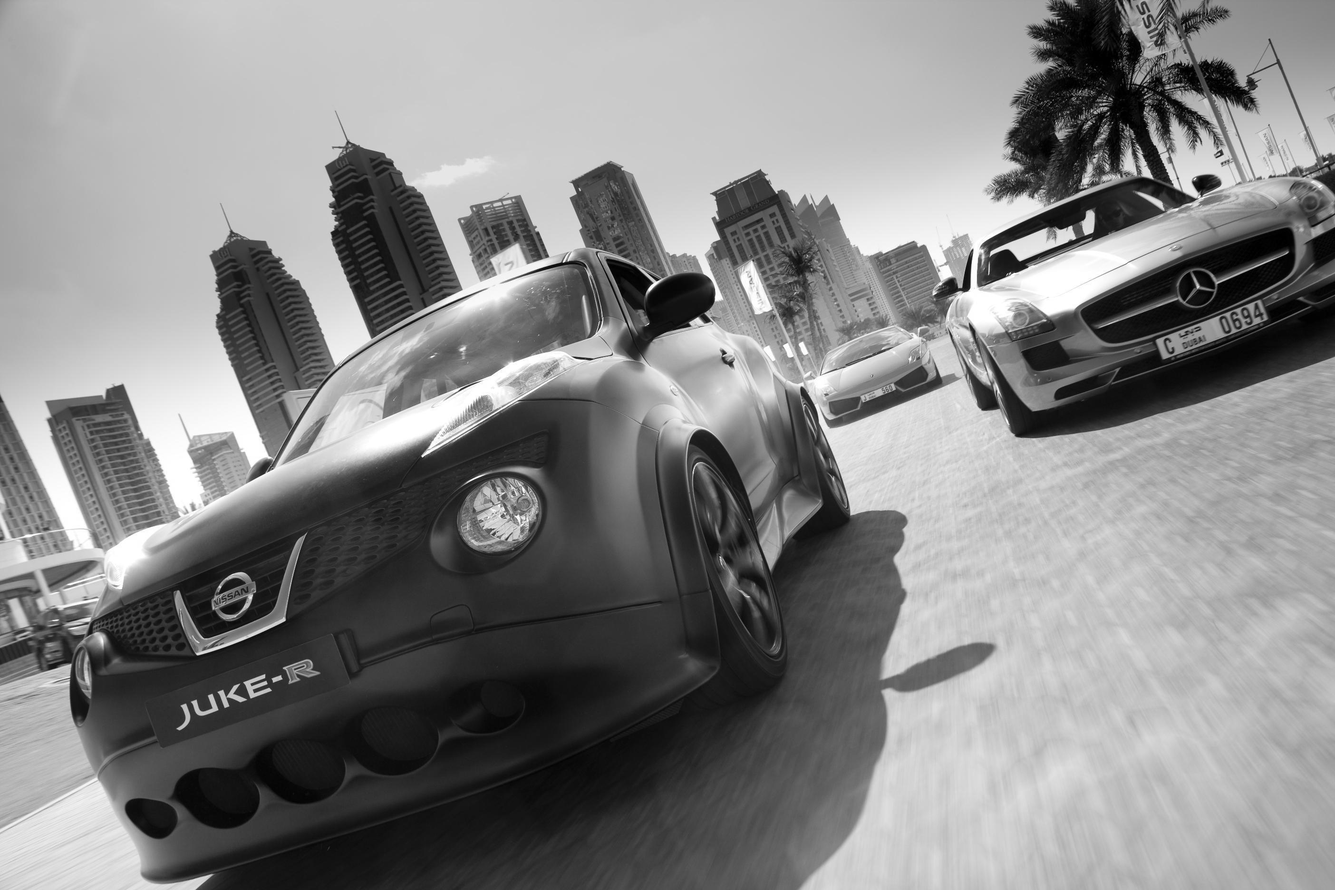car: (67, 250, 857, 881)
